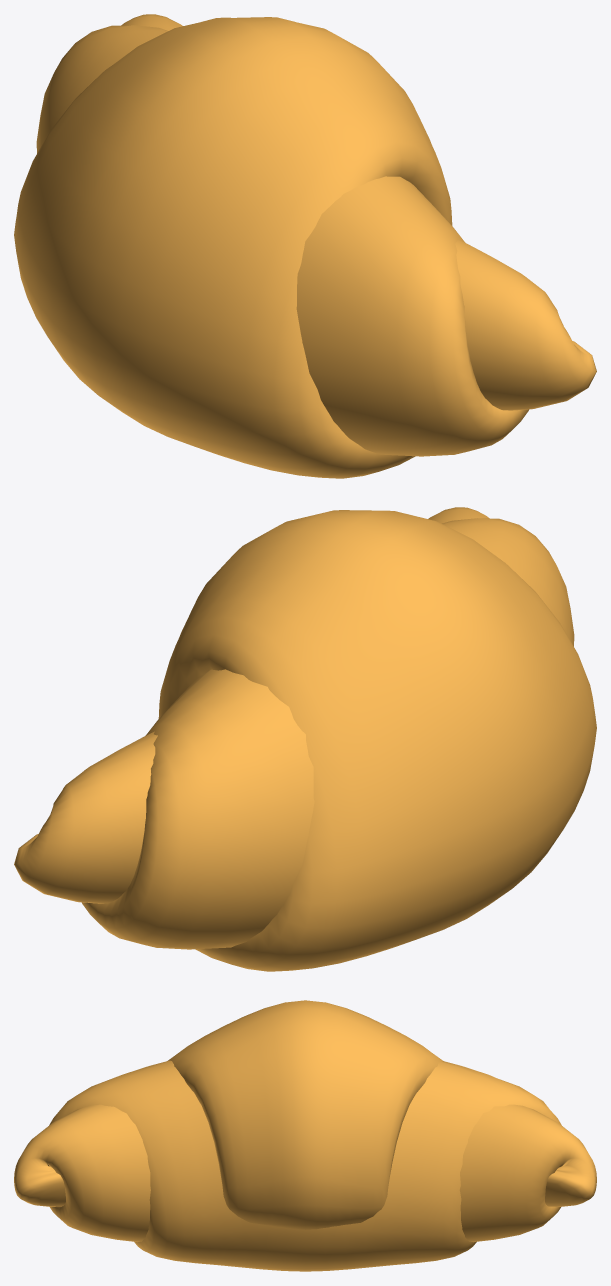
Rendered from chleb2.gltf.
3 renders of one model, top to bottom at view 1: azimuth 30°, elevation 25°; view 2: azimuth 150°, elevation 25°; view 3: azimuth 270°, elevation 25°, orthographic. The views are drawn at different scales.
Visible parts, largest first — view 1: Plane; view 2: Plane; view 3: Plane.
Part boxes in pixels (box(x1,y1,x2,y2)): Plane: box(14, 14, 596, 478); Plane: box(14, 507, 596, 971); Plane: box(14, 1000, 596, 1271).
Size of the model in its own units: 0.7516 by 0.7681 by 1.6.
Materials: 1 (1 with a texture image).
